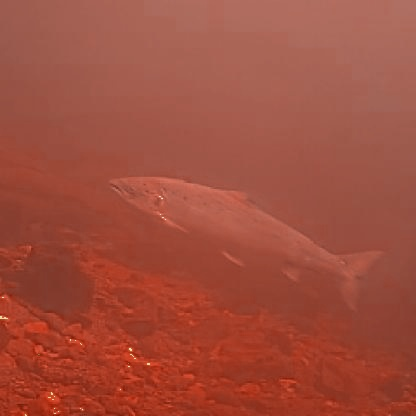salmon: (104, 168, 385, 312)
